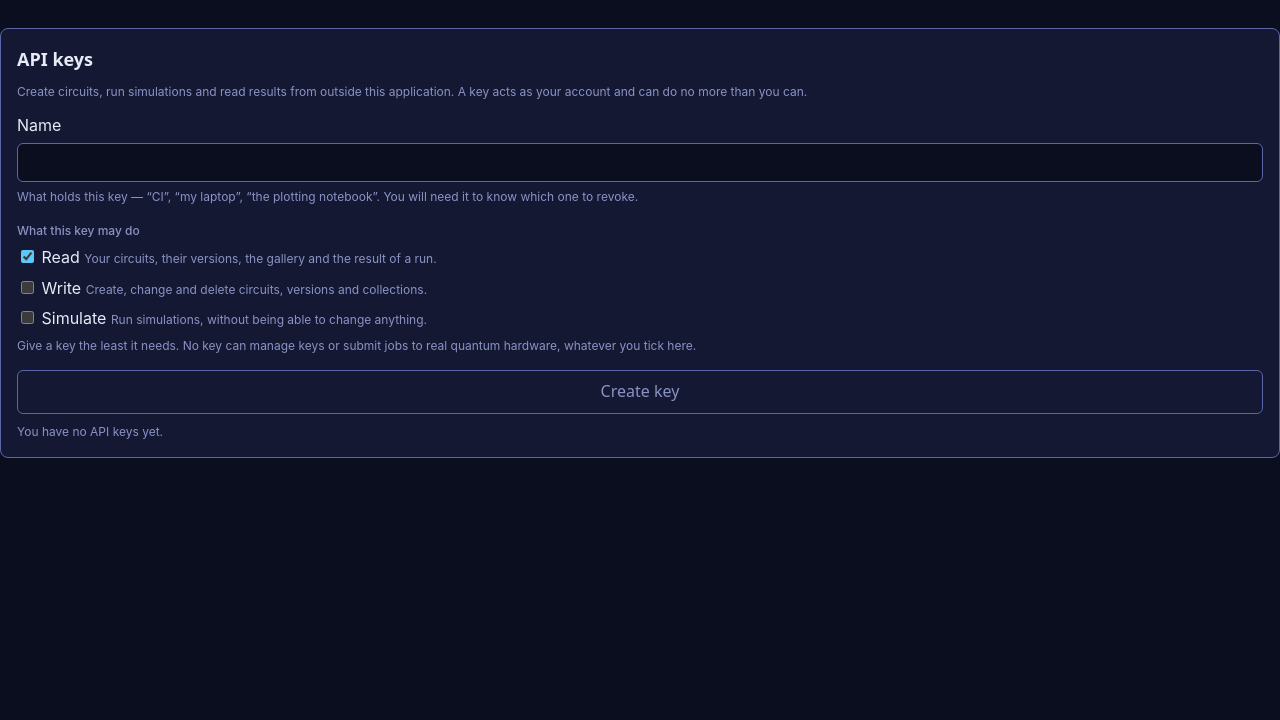
Test: failures › translates the ceiling rather than showing a status code
The width and height of the screenshot is (1280, 720).
Check: the text "You have no API keys yet." is shown, box [17,424,163,439]
Type "one too many" into the field labelled "Name" at (640, 163), box [17,143,1263,182]
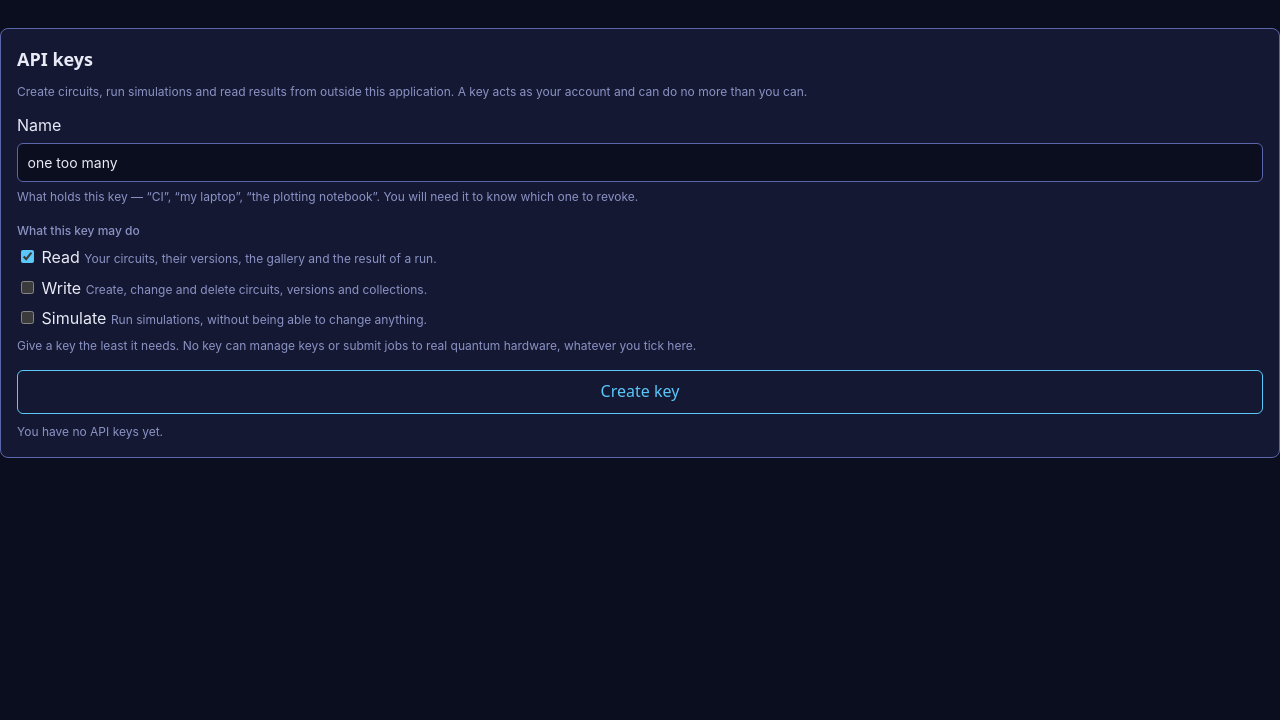
Click the button "Create key" at (640, 392), box [17,370,1263,414]
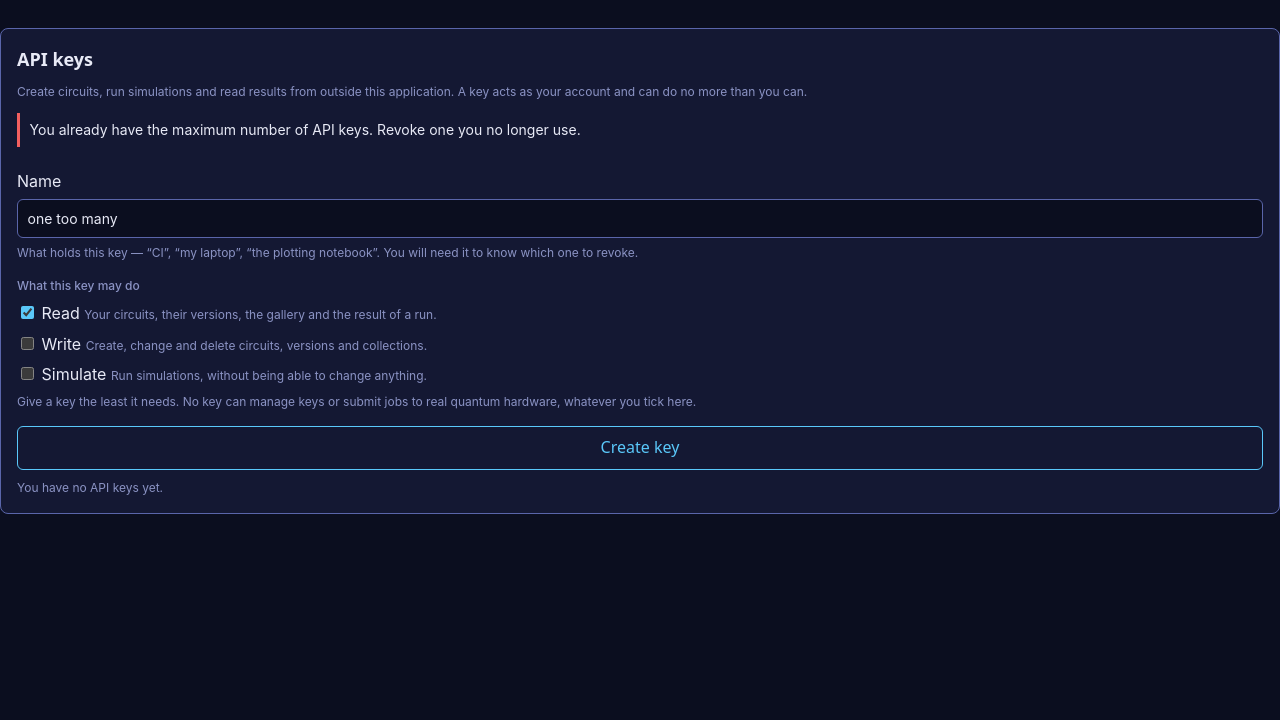
Check: the text "You already have the maximum number of API keys. Revoke one you no longer use." is shown, box [17,113,1263,147]
